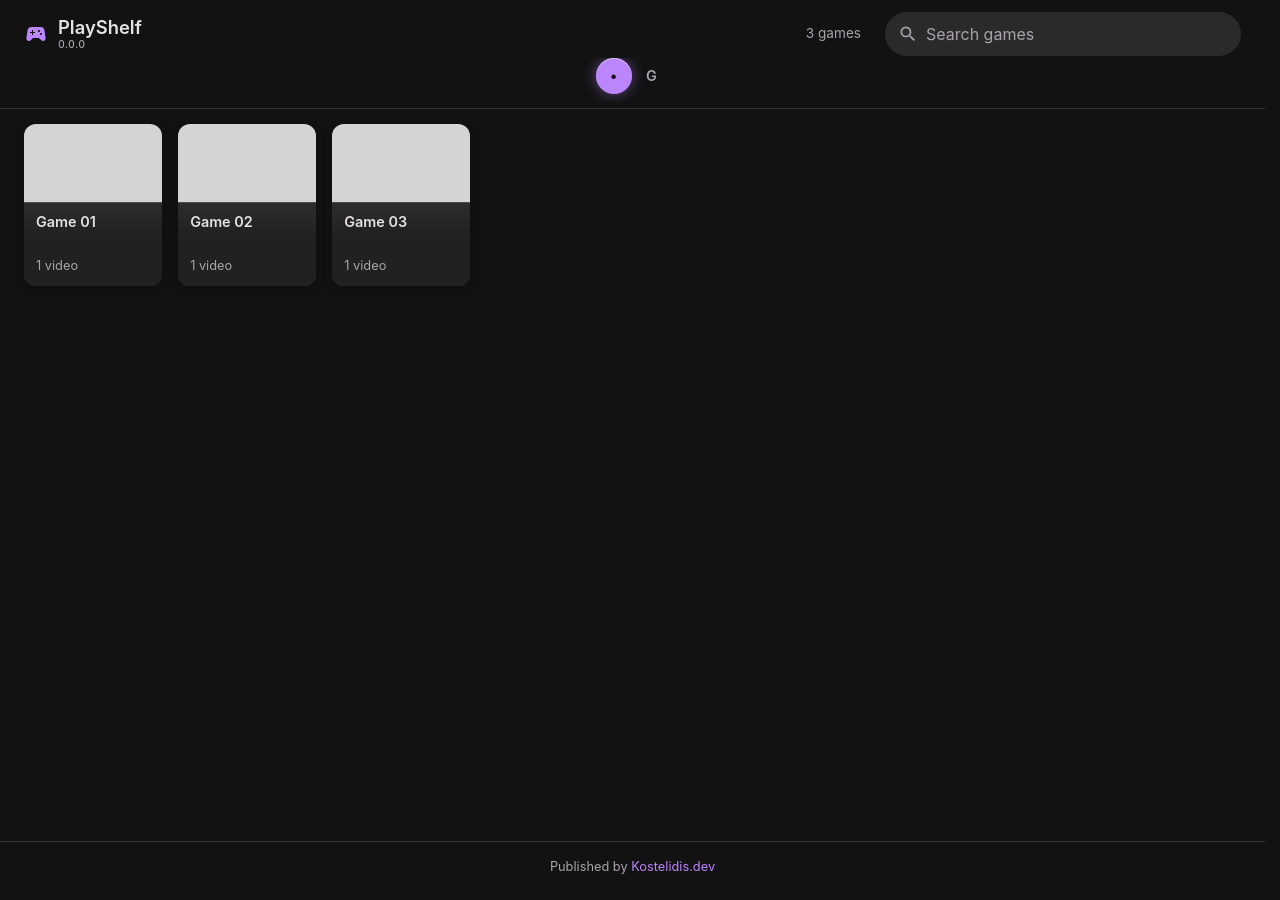
Test: App: home view › shows a message with a way out when nothing matches
Expected: the text "Game 01" is shown, [36,213,96,230]
Type "zzz" into the search field.
click(1077, 34); type("zzz")  # box [926,13,1228,55]
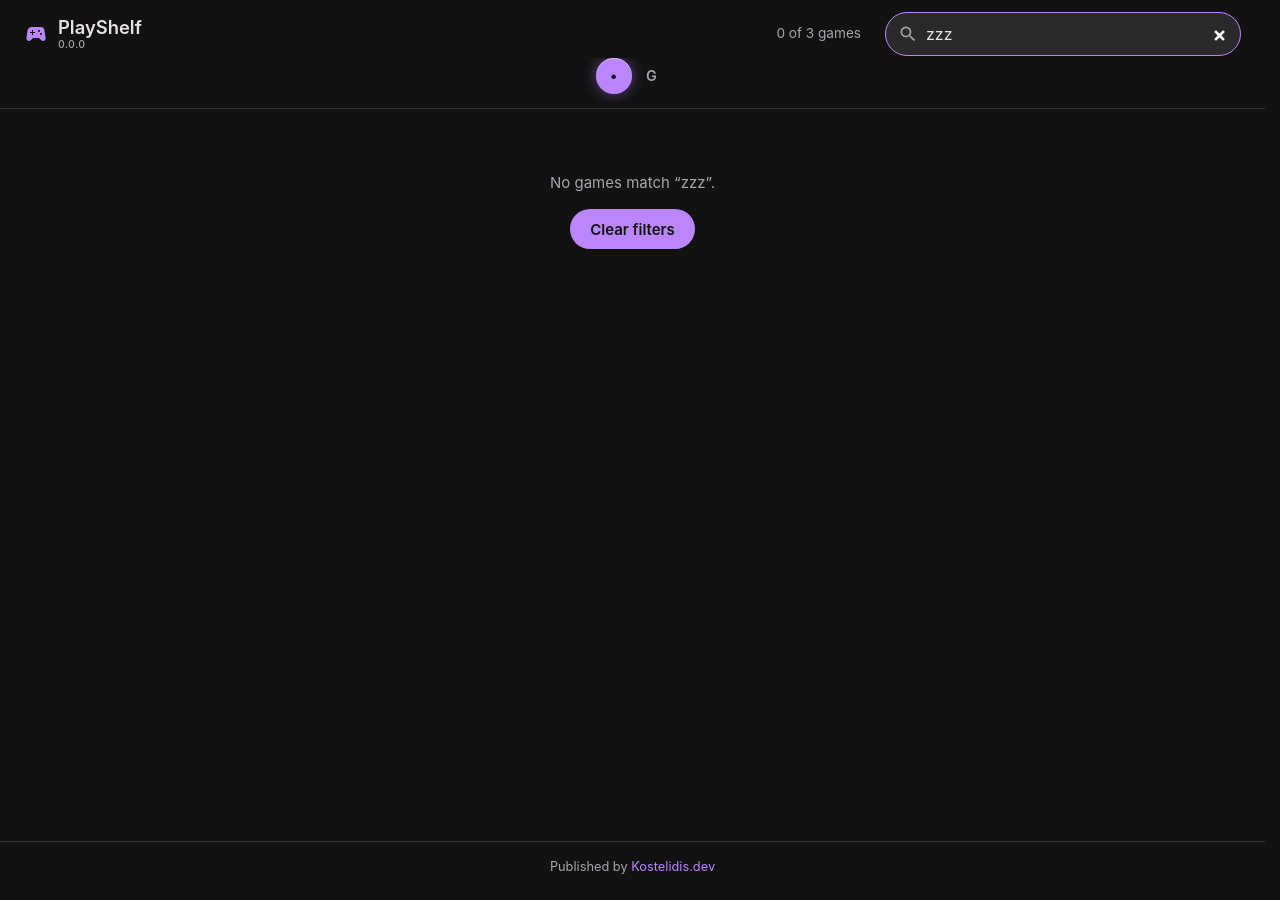
Expected: the text "No games match “zzz”." is shown, [550,173,715,192]
Click the button "Clear filters".
click(632, 229)  # box [570,209,695,249]
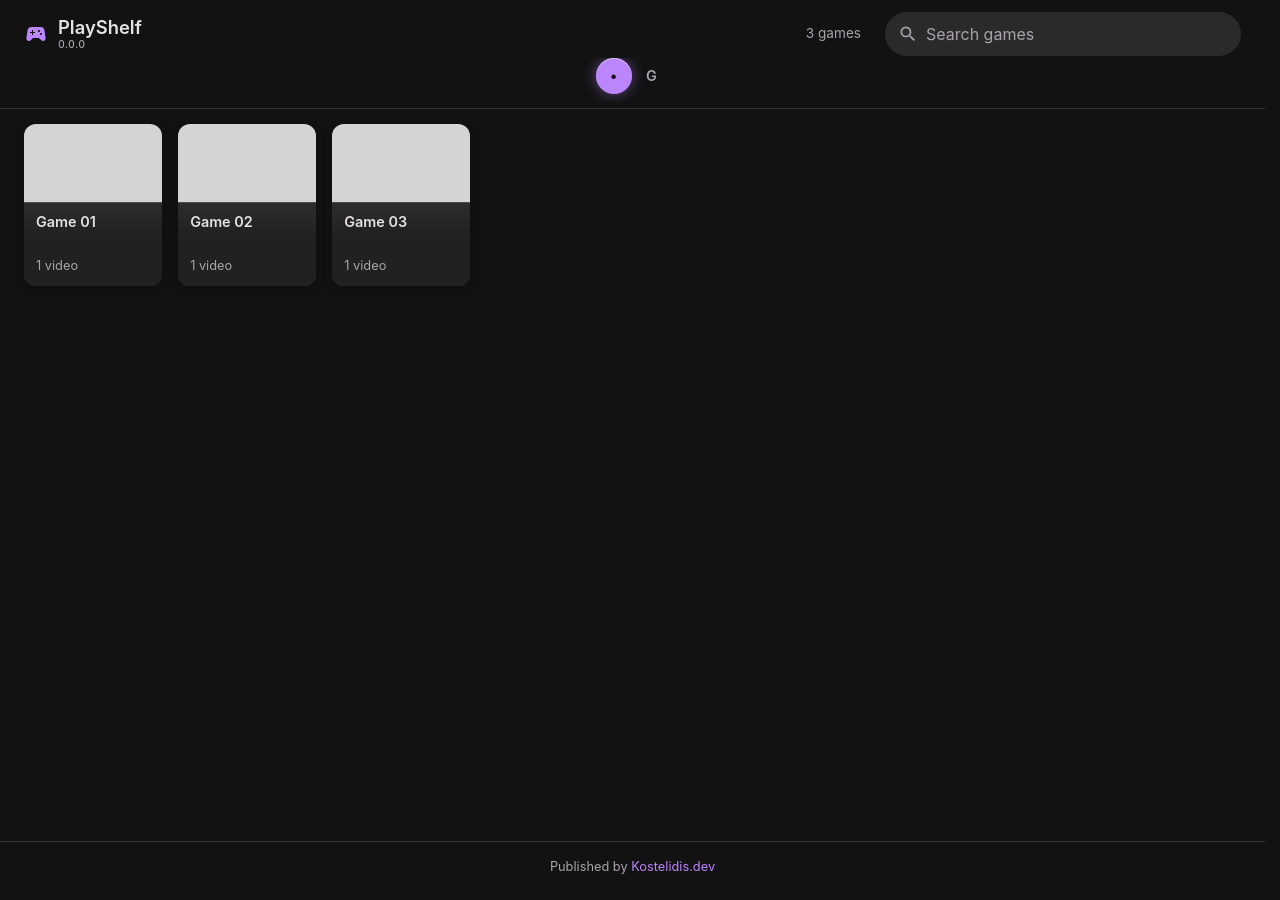
Expected: the search field is empty, [926,13,1228,55]
